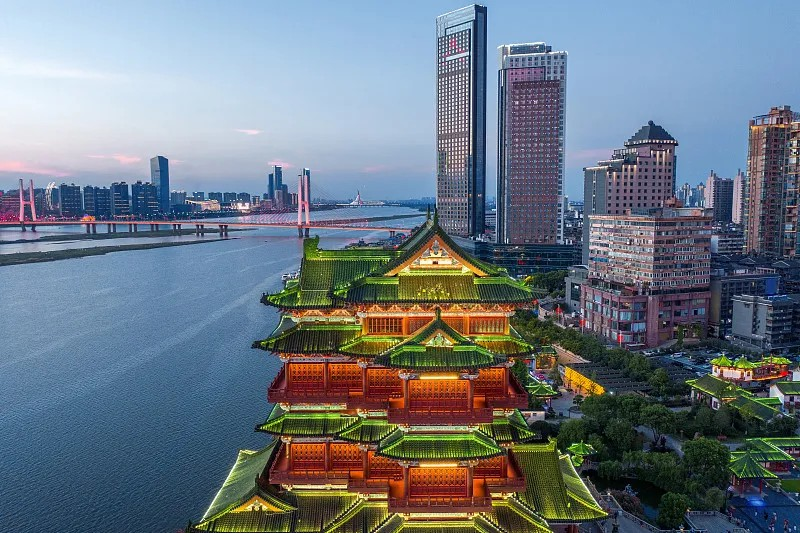Teng: (190, 208, 608, 533)
